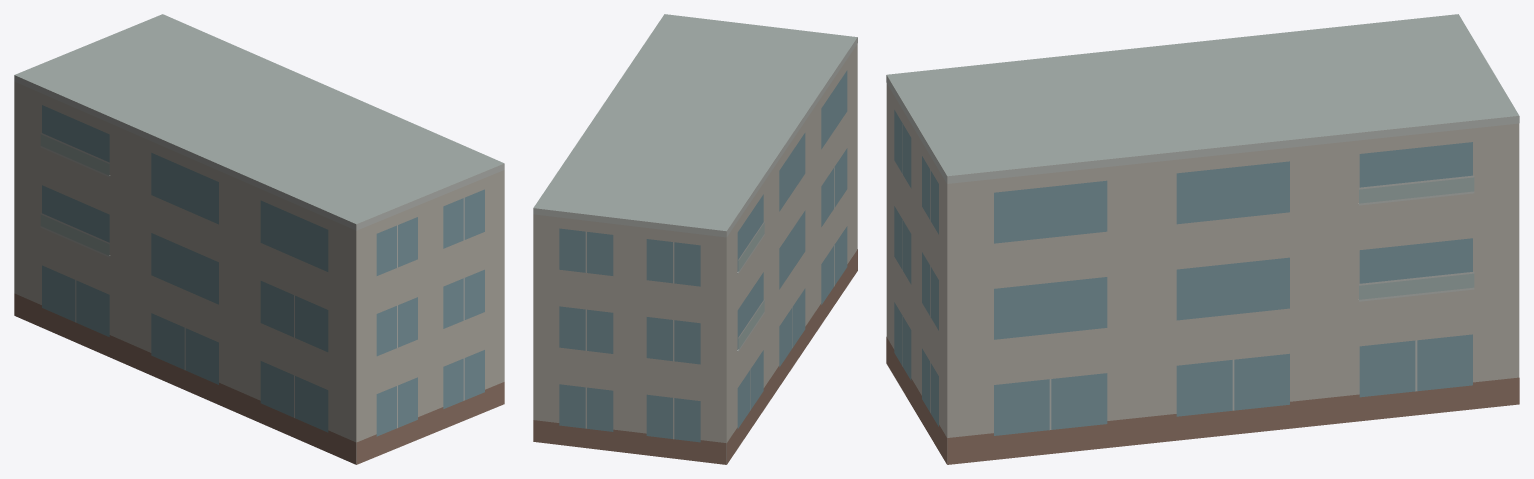
Rendered from survey-upis-32703974.glb.
The picture shows the model from 3 angles, left to right: view 1: azimuth 30°, elevation 25°; view 2: azimuth 150°, elevation 25°; view 3: azimuth 270°, elevation 25°; orthographic projection. The views are drawn at different scales.
Visible parts, largest first — view 1: survey-upis-32703974.tmp; view 2: survey-upis-32703974.tmp; view 3: survey-upis-32703974.tmp.
Boxes of the visible parts, bbox=[...] form: survey-upis-32703974.tmp: bbox=[14, 14, 504, 464]; survey-upis-32703974.tmp: bbox=[533, 14, 857, 464]; survey-upis-32703974.tmp: bbox=[886, 14, 1519, 464].
Size of the model in its own units: 11.04 by 9.15 by 18.2.
